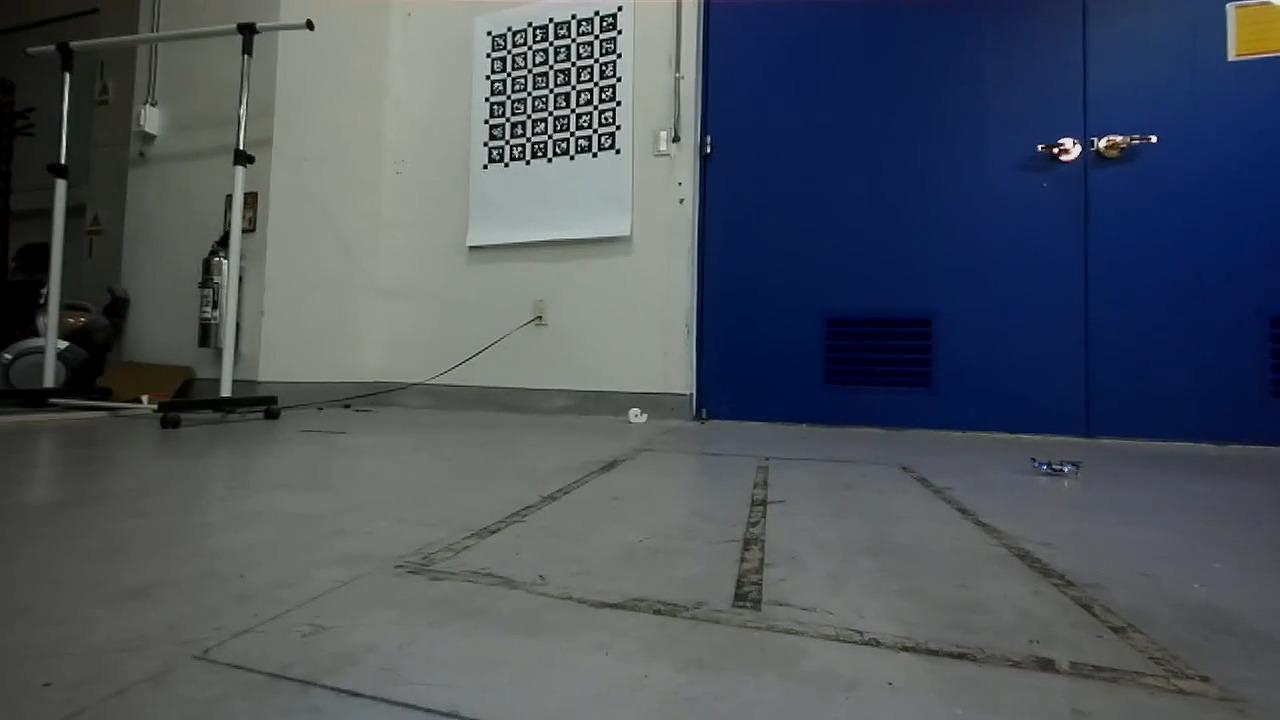crazyflie: (1028, 454, 1084, 480)
